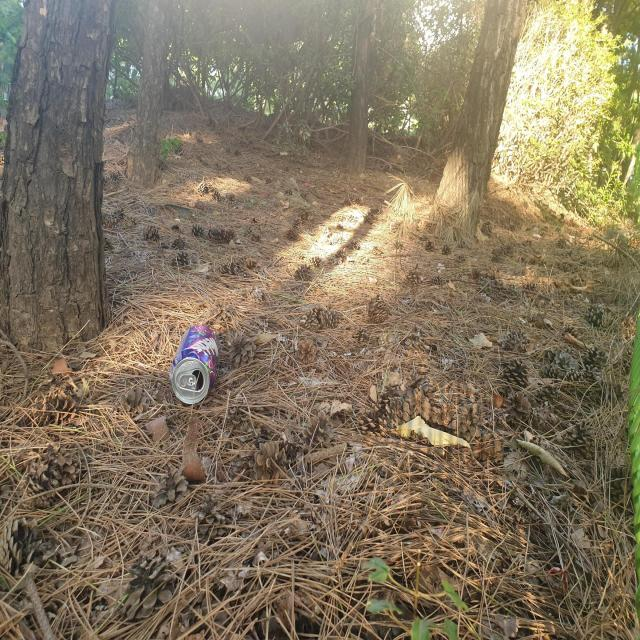can: (169, 324, 219, 404)
